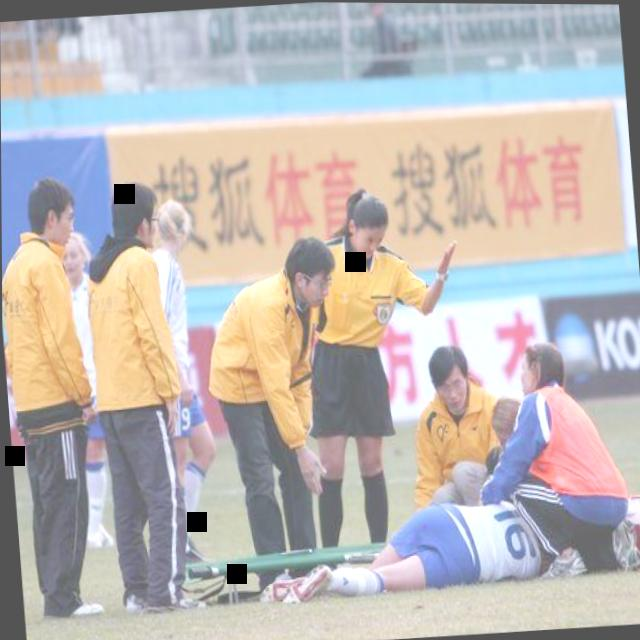Fall-Detected: (282, 471, 588, 604)
